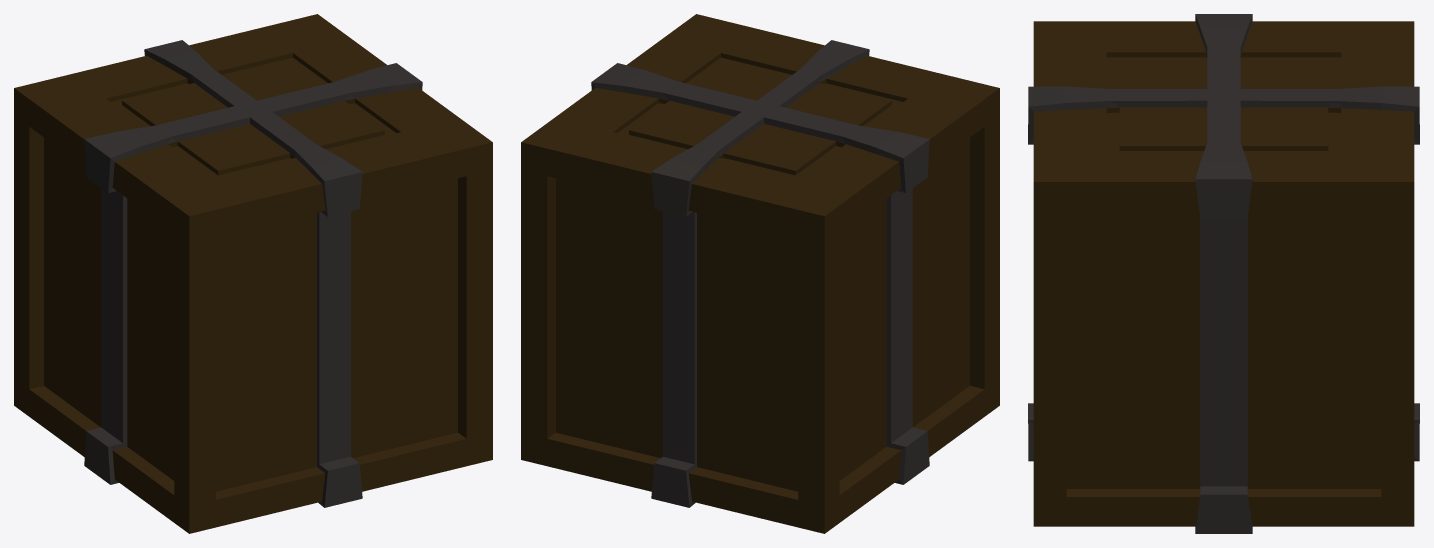
File: WoodenCrate4.glb
3 views of the same model, side by side, from view 1: azimuth 30°, elevation 25°; view 2: azimuth 150°, elevation 25°; view 3: azimuth 270°, elevation 25° (orthographic). The views are drawn at different scales.
Parts seen in each view (by area): view 1: Wooden Crate 3; view 2: Wooden Crate 3; view 3: Wooden Crate 3.
Part boxes in pixels (box(x1,y1,x2,y2)): Wooden Crate 3: box(14, 14, 492, 533); Wooden Crate 3: box(521, 14, 999, 533); Wooden Crate 3: box(1028, 14, 1419, 533).
Bounding box in the file's own units: 0.5149 × 0.5201 × 0.5148.
